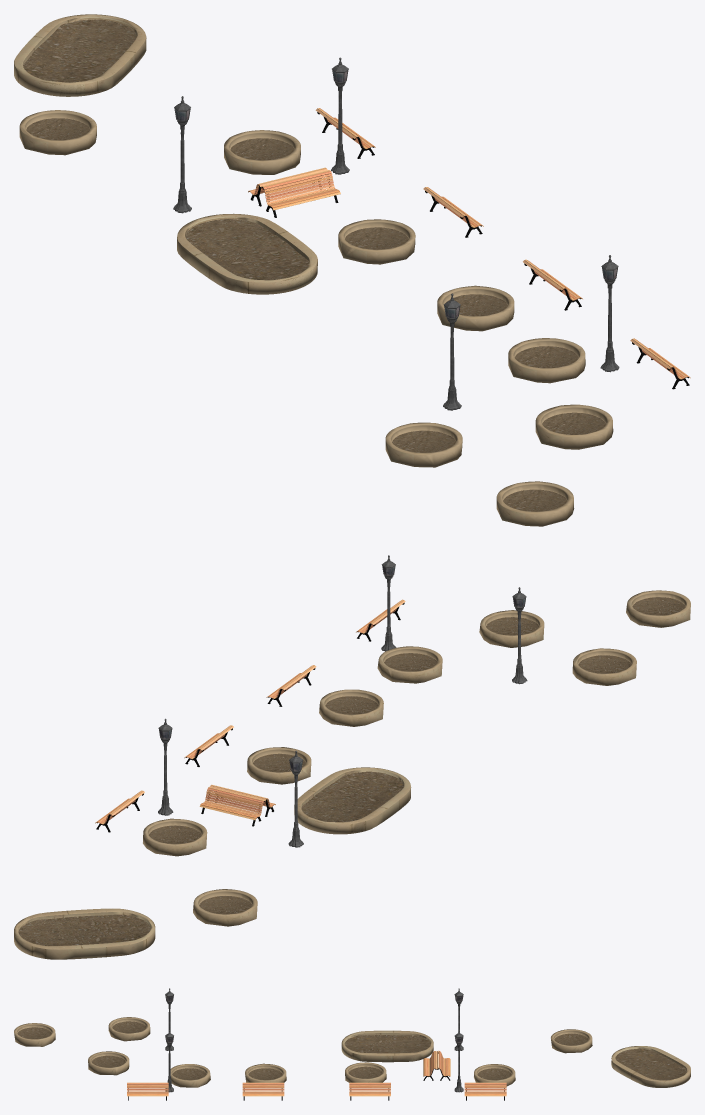
Rendered from PropsExedraAgain.fbx.
3 renders of one model, top to bottom at view 1: azimuth 30°, elevation 25°; view 2: azimuth 150°, elevation 25°; view 3: azimuth 270°, elevation 25°, orthographic. The views are drawn at different scales.
Visible parts, largest first — view 1: Banca__4_; view 2: Banca__4_; view 3: Banca__4_.
Part boxes in pixels (x1=…): Banca__4_: x1=14, y1=14, x2=690, y2=526; Banca__4_: x1=14, y1=555, x2=690, y2=959; Banca__4_: x1=14, y1=988, x2=690, y2=1100.
Size of the model in its own units: 1125 by 438 by 4100.
